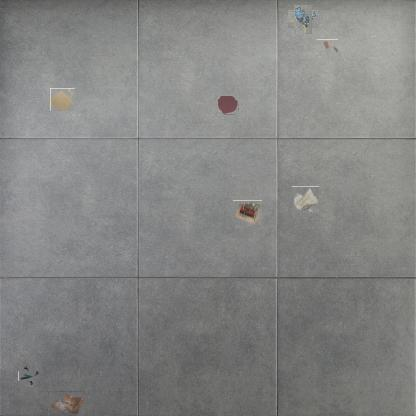dirty: (48, 391, 86, 415), (292, 186, 319, 214), (234, 199, 261, 227), (291, 7, 315, 32), (316, 39, 338, 54), (21, 369, 37, 384)
liquid: (50, 88, 75, 111), (218, 96, 238, 114)
